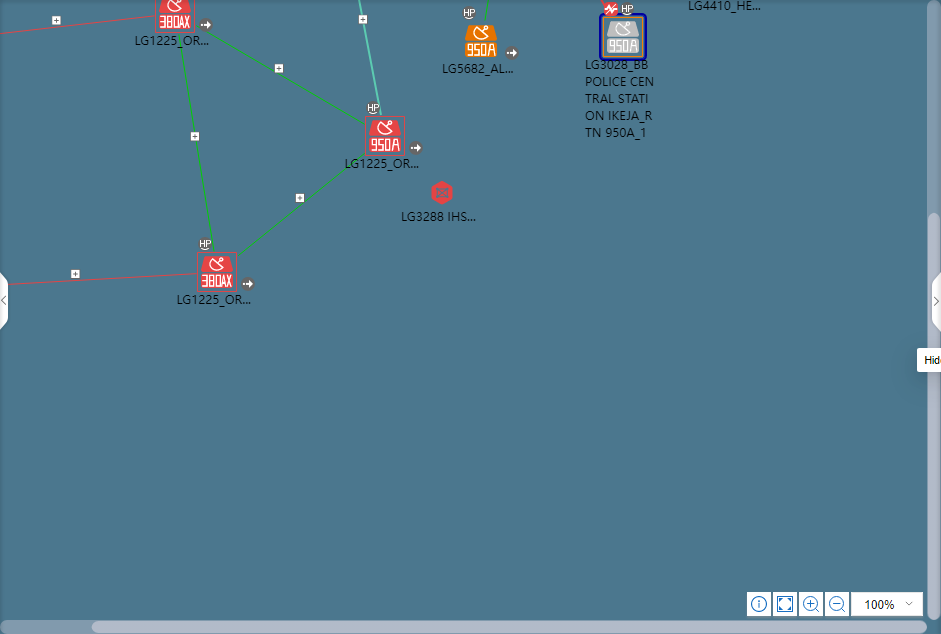Link_Blue: (357, 0, 383, 116)
Link_Green: (196, 24, 364, 125), (238, 153, 364, 257), (175, 35, 216, 251), (482, 0, 489, 22)
Link_Red: (0, 14, 153, 35), (8, 272, 195, 286)
RTN_Gray: (605, 19, 639, 55)
RTN_Orange: (465, 24, 496, 56)
RTN_Red: (365, 117, 401, 153), (197, 255, 234, 289), (158, 0, 193, 31)
